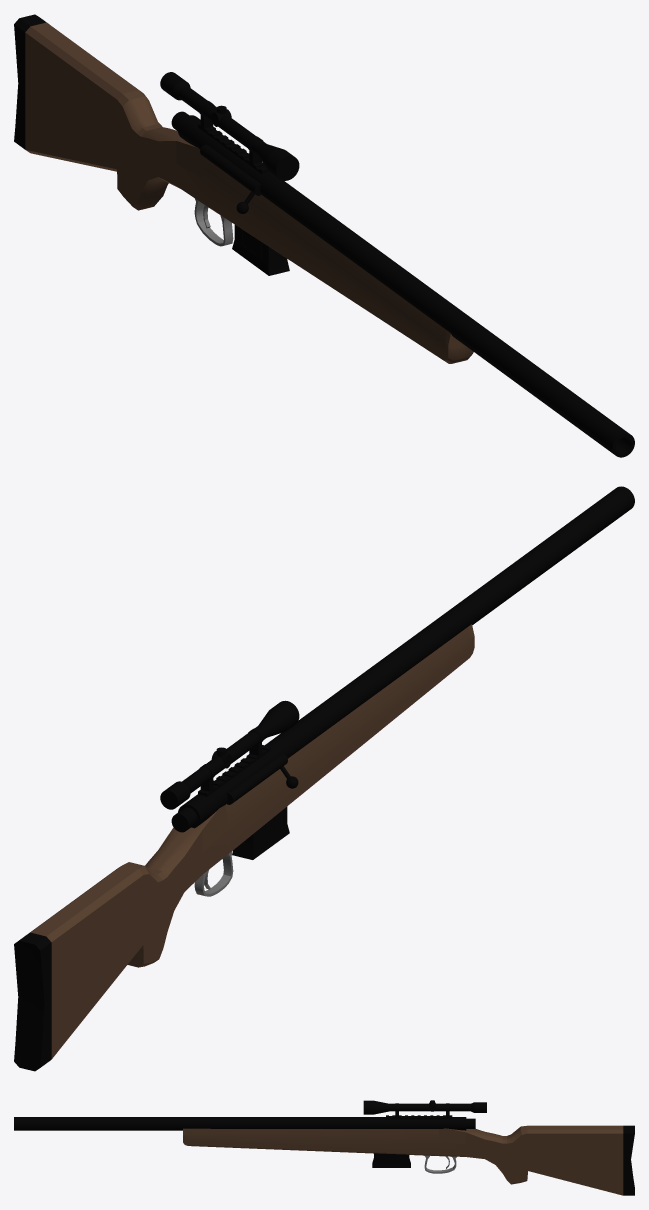
File: sniper.fbx
3 views of the same model, one above another, from view 1: azimuth 30°, elevation 25°; view 2: azimuth 150°, elevation 25°; view 3: azimuth 270°, elevation 25° (orthographic). The views are drawn at different scales.
Visible parts, largest first — view 1: Cube, Cylinder, Cylinder.002, Cube.008, Cylinder.001, Plane; view 2: Cube, Cylinder, Cylinder.002, Cube.008, Cylinder.001; view 3: Cube, Cylinder, Cylinder.002, Cube.008, Plane.
Part boxes in pixels (left/top/right/bottom): Cube: left=14, top=14, right=473, bottom=363; Cylinder: left=171, top=111, right=634, bottom=457; Cylinder.002: left=160, top=72, right=299, bottom=180; Cube.008: left=232, top=225, right=289, bottom=275; Cylinder.001: left=200, top=144, right=261, bottom=213; Plane: left=194, top=198, right=233, bottom=246; Cube: left=14, top=624, right=474, bottom=1071; Cylinder: left=171, top=486, right=634, bottom=832; Cylinder.002: left=160, top=700, right=299, bottom=809; Cube.008: left=232, top=806, right=289, bottom=859; Cylinder.001: left=226, top=753, right=298, bottom=804; Cube: left=183, top=1125, right=634, bottom=1195; Cylinder: left=14, top=1115, right=475, bottom=1130; Cylinder.002: left=363, top=1100, right=486, bottom=1119; Cube.008: left=372, top=1153, right=410, bottom=1167; Plane: left=424, top=1155, right=456, bottom=1173.
Bounding box in the file's own units: 120 × 471 × 2868.
